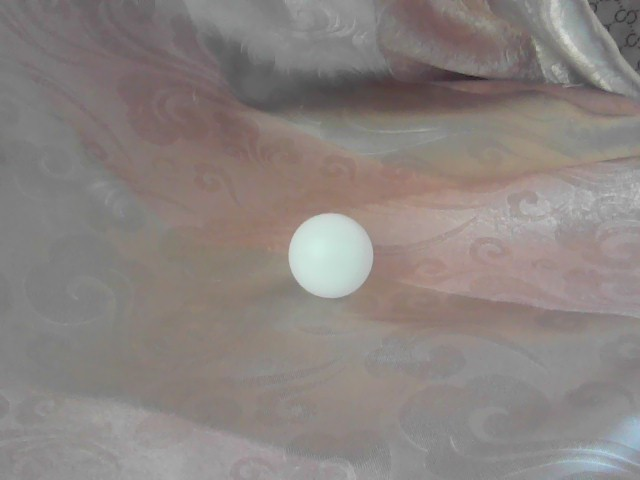ball: (288, 211, 374, 300)
